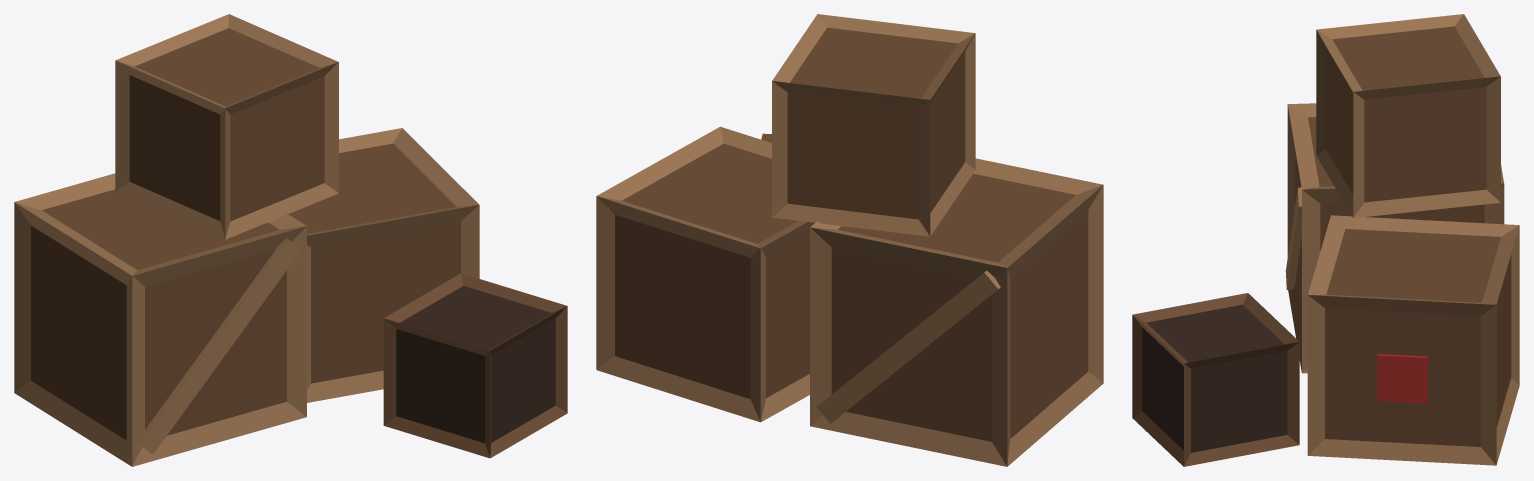
The model's file is crate_stack.fbx.
3 renders of one model, left to right at view 1: azimuth 30°, elevation 25°; view 2: azimuth 150°, elevation 25°; view 3: azimuth 270°, elevation 25°, orthographic. The views are drawn at different scales.
Parts seen in each view (by area): view 1: crate_stack; view 2: crate_stack; view 3: crate_stack.
Part boxes in pixels (bbox=[...]): crate_stack: bbox=[14, 14, 567, 466]; crate_stack: bbox=[596, 14, 1103, 466]; crate_stack: bbox=[1132, 14, 1519, 466].
Bounding box in the file's own units: 1.73 × 1.35 × 1.53.
